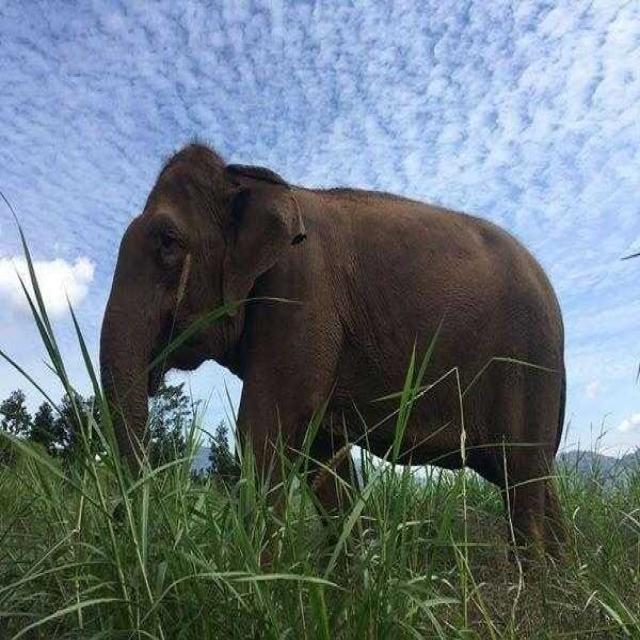Elephant: (97, 138, 571, 569)
